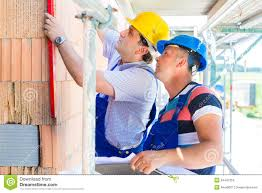helmet: (168, 33, 214, 70), (130, 11, 168, 42)
